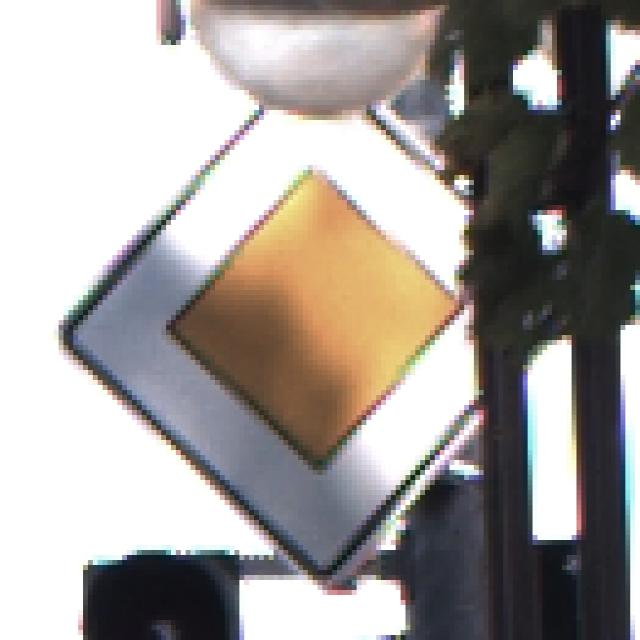Main Road: (60, 61, 587, 586)
